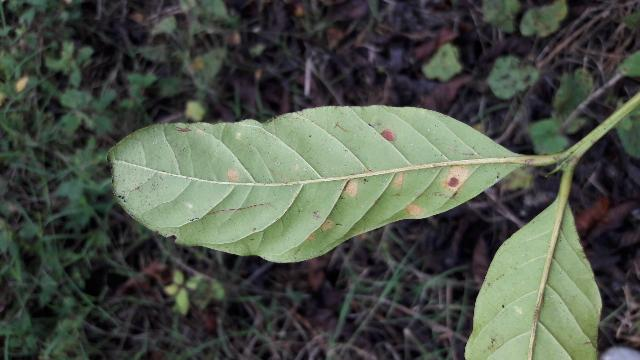rust_level_1: (109, 103, 526, 265)
